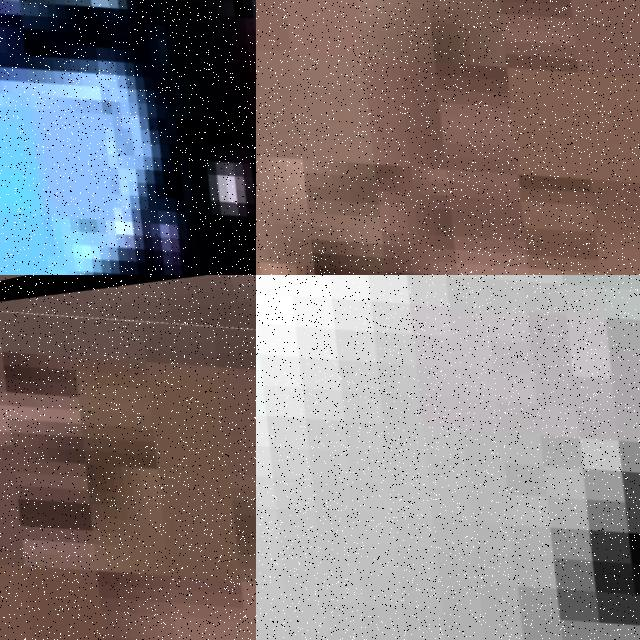drone: (256, 275, 640, 640), (256, 0, 640, 275), (0, 275, 256, 640), (0, 0, 256, 275)
